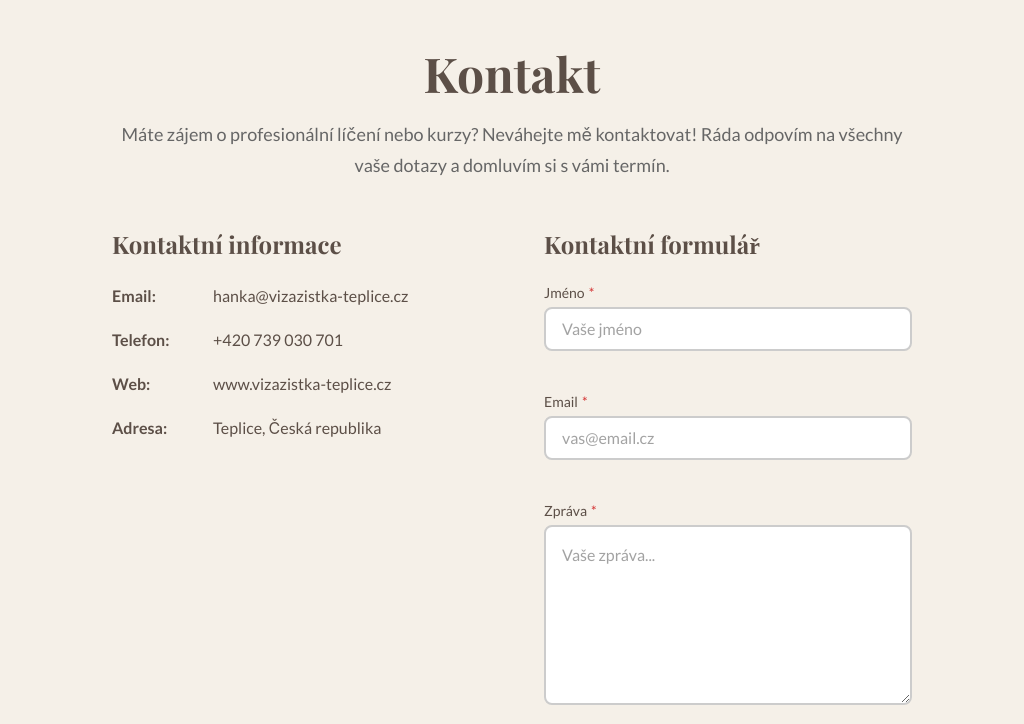
it: ContactPage Component › should submit form successfully and display success message
This screenshot has width=1024, height=724.
Note: Fill in the form
Type "Jan Novák" into the field with placeholder "Vaše jméno" at (728, 329), box top-left (544, 307), bottom-right (912, 351)
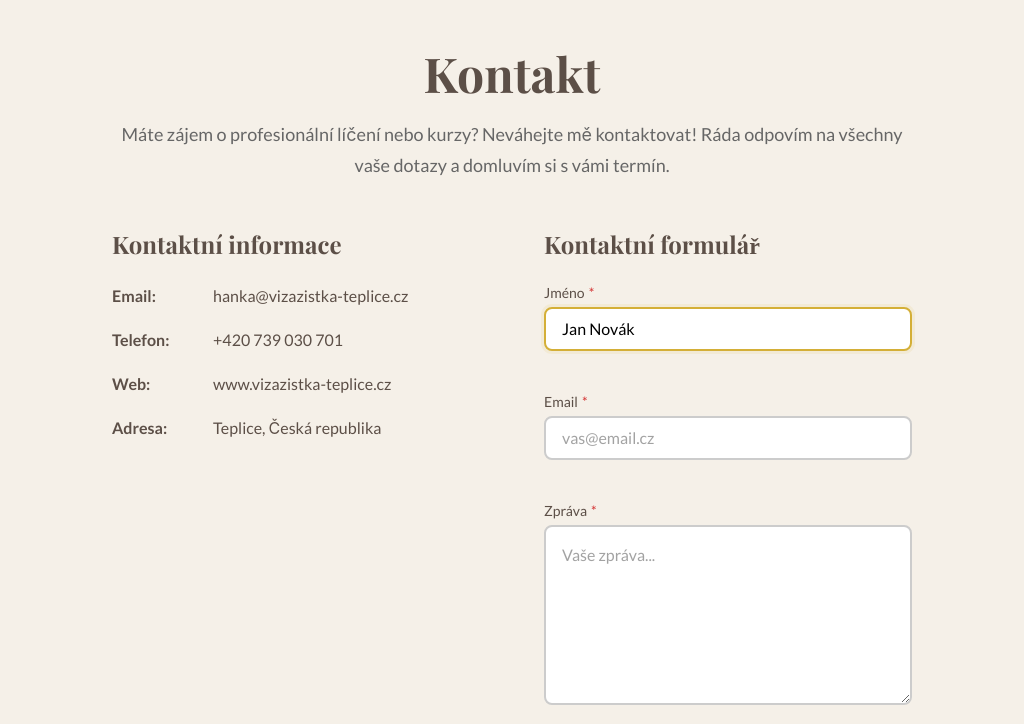
Type "jan@example.com" into the field with placeholder "vas@email.cz" at (728, 438), box top-left (544, 416), bottom-right (912, 460)
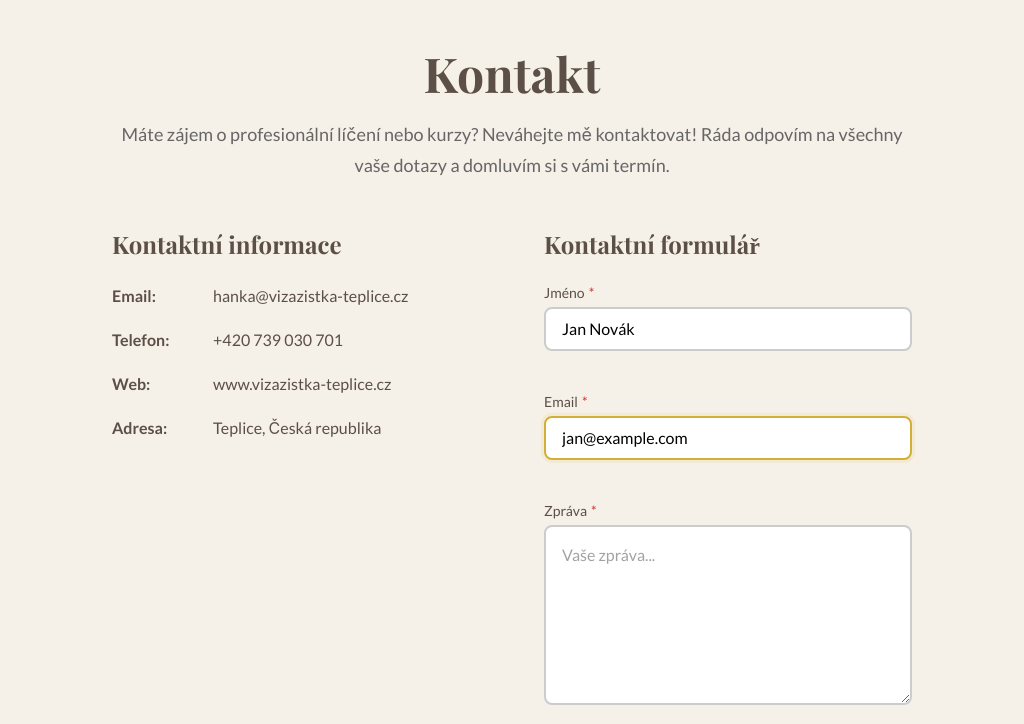
Type "Chtěl bych se zeptat na kurzy líčení." into the text box with placeholder "Vaše zpráva..." at (728, 615), box top-left (544, 525), bottom-right (912, 705)
(page scrolled)
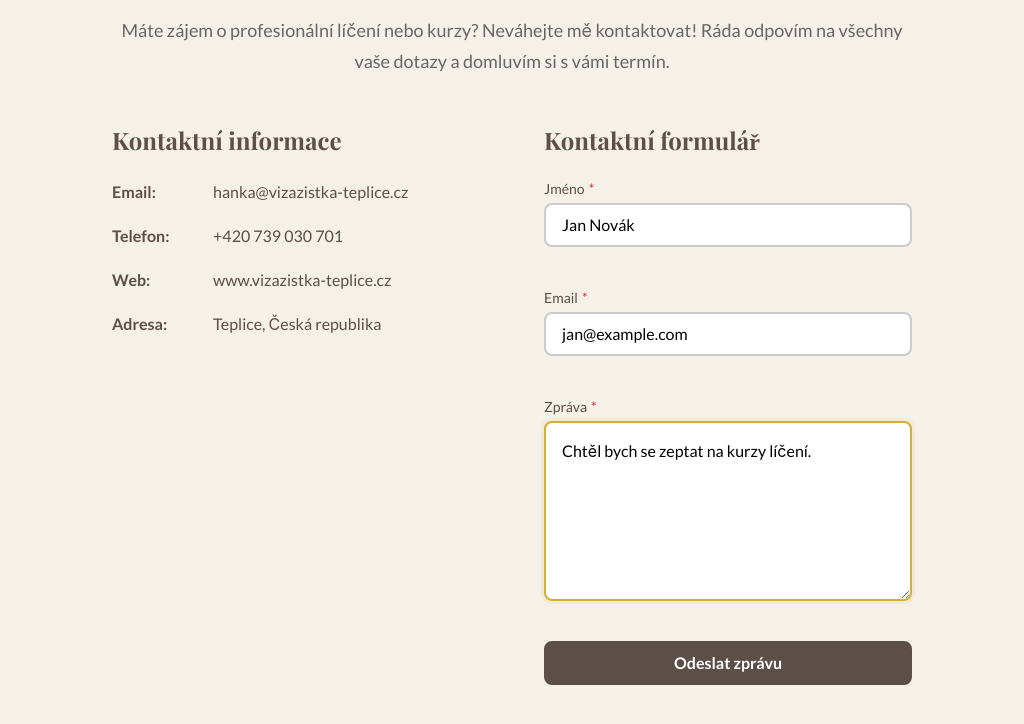
Click the button "Odeslat zprávu" at (728, 663), box top-left (544, 641), bottom-right (912, 685)
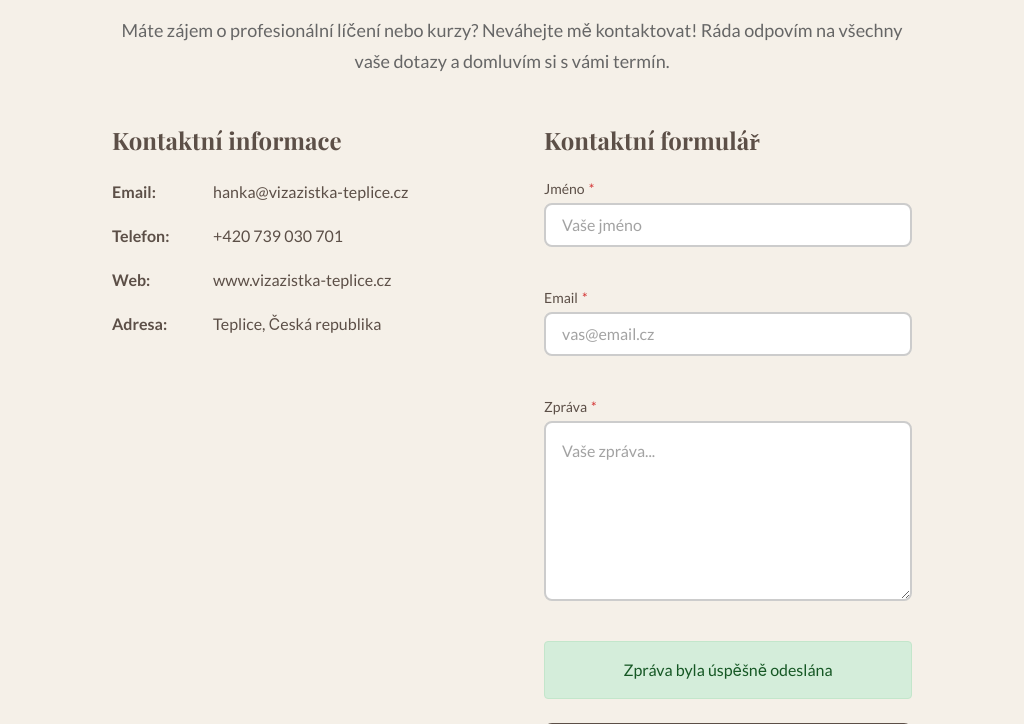
Expected: the text "Zpráva byla úspěšně odeslána" is shown, top-left (544, 641), bottom-right (912, 699)
